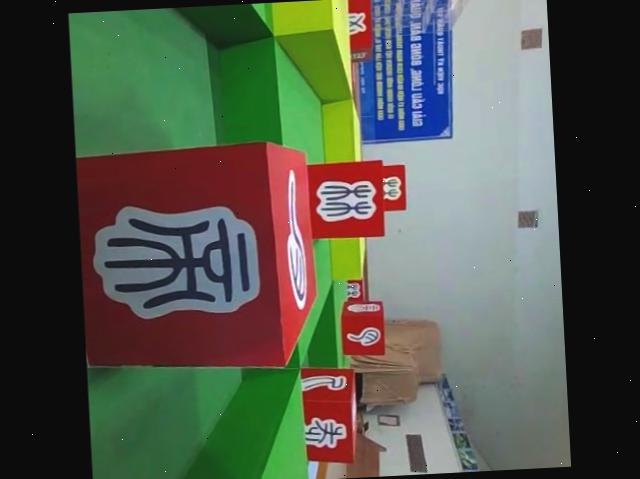R2 Fake: (75, 128, 327, 386), (287, 362, 365, 464), (306, 154, 388, 244), (338, 300, 387, 356)
